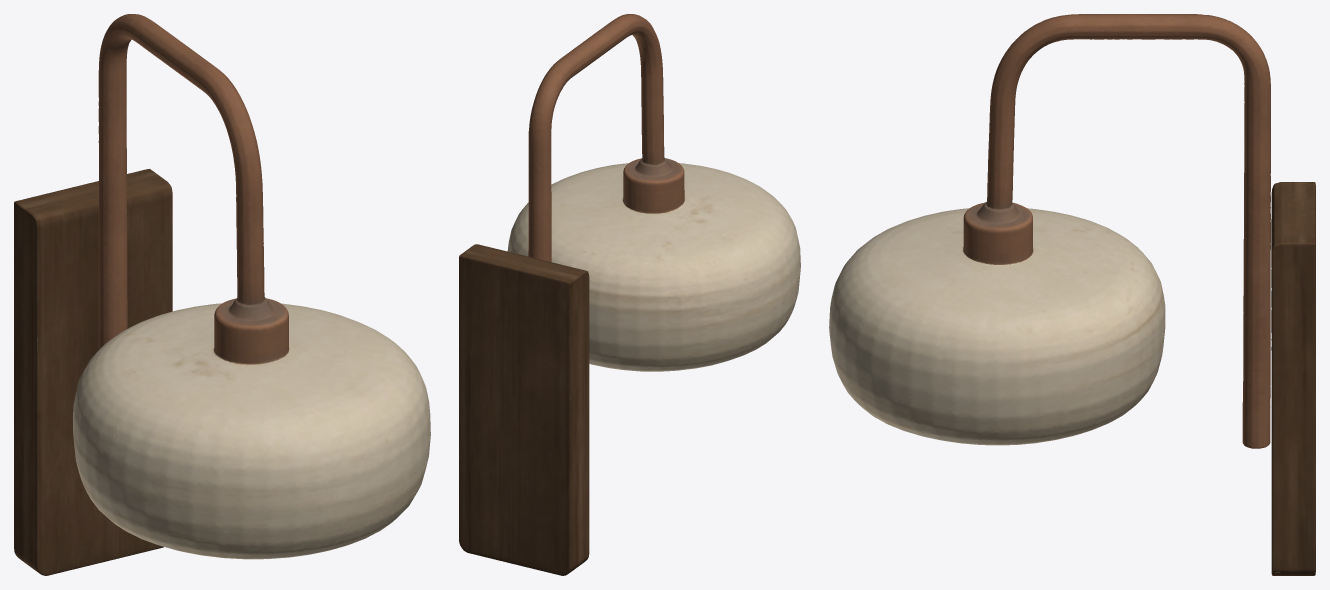
The model's file is CopperWallSconce.glb.
The picture shows the model from 3 angles, left to right: view 1: azimuth 30°, elevation 25°; view 2: azimuth 150°, elevation 25°; view 3: azimuth 270°, elevation 25°; orthographic projection. The views are drawn at different scales.
Visible parts, largest first — view 1: world; view 2: world; view 3: world.
Boxes of the visible parts, bbox=[...] form: world: bbox=[14, 14, 430, 575]; world: bbox=[459, 14, 800, 575]; world: bbox=[829, 14, 1315, 575].
Size of the model in its own units: 0.5731 by 1 by 0.8296.
1 material, 1 textured.
